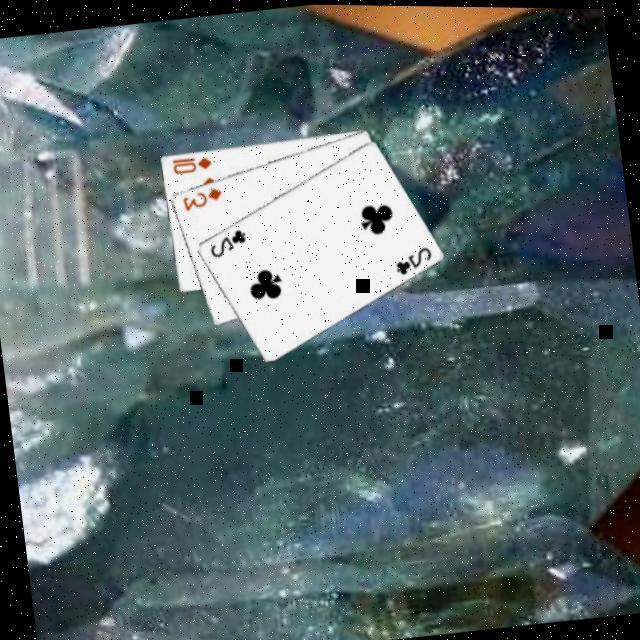10D: (171, 151, 217, 177)
2C: (207, 225, 252, 261), (392, 242, 437, 278)
3D: (179, 183, 228, 215)
